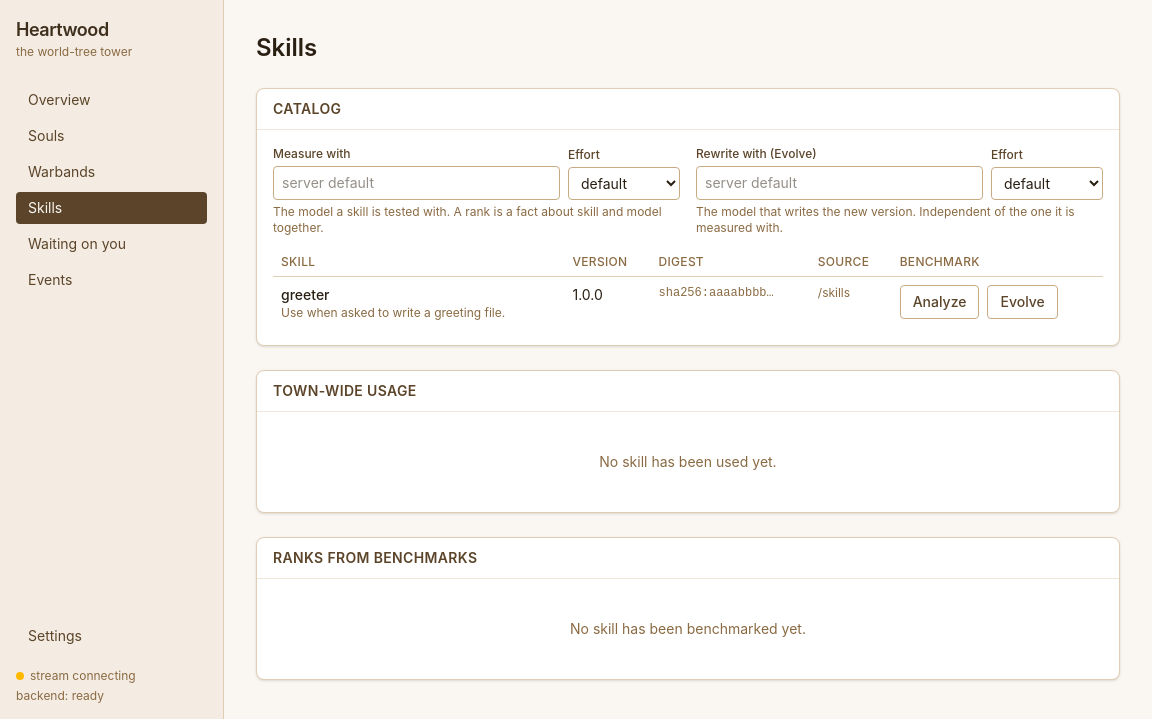
Test: pages › skills catalog actions › Evolve reports a refused proposal with its evidence, and a promotion with the new digest
Click the button "Evolve".
click(1023, 302)  # box [988,285,1058,319]
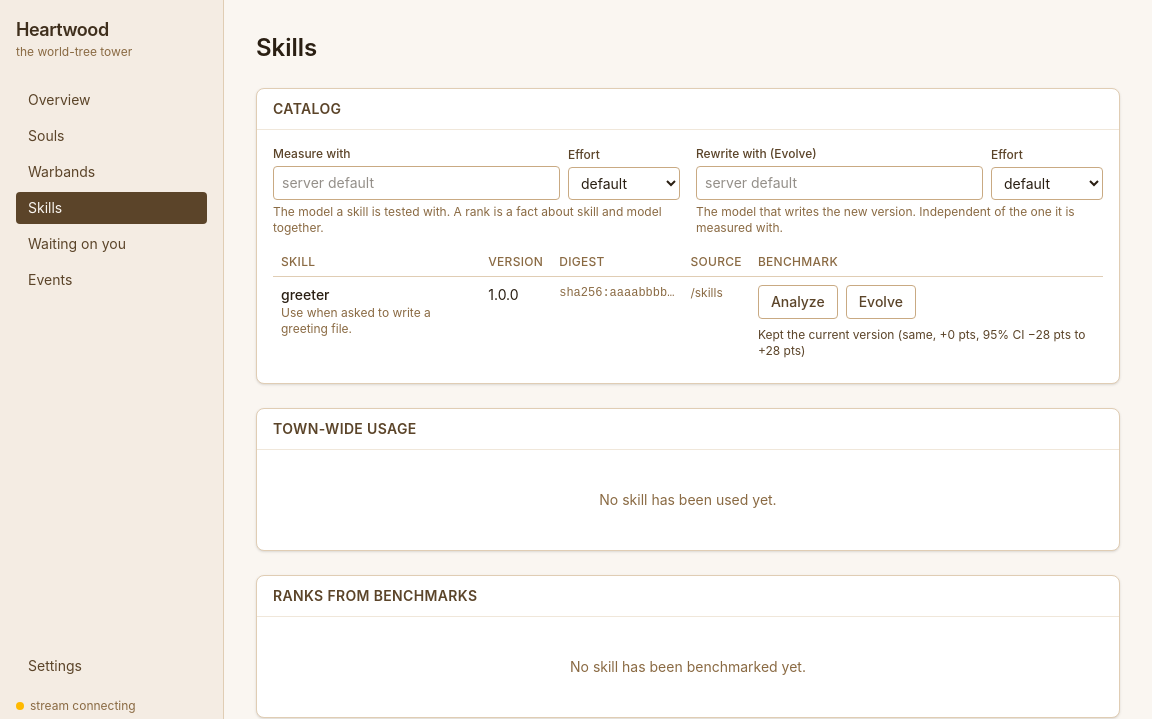
Now the text "Kept the current version (same, +0 pts, 95% CI −28 pts to +28 pts)" is shown, box [758,327,1095,359]
Click the button "Evolve".
click(881, 302)  # box [846,285,916,319]
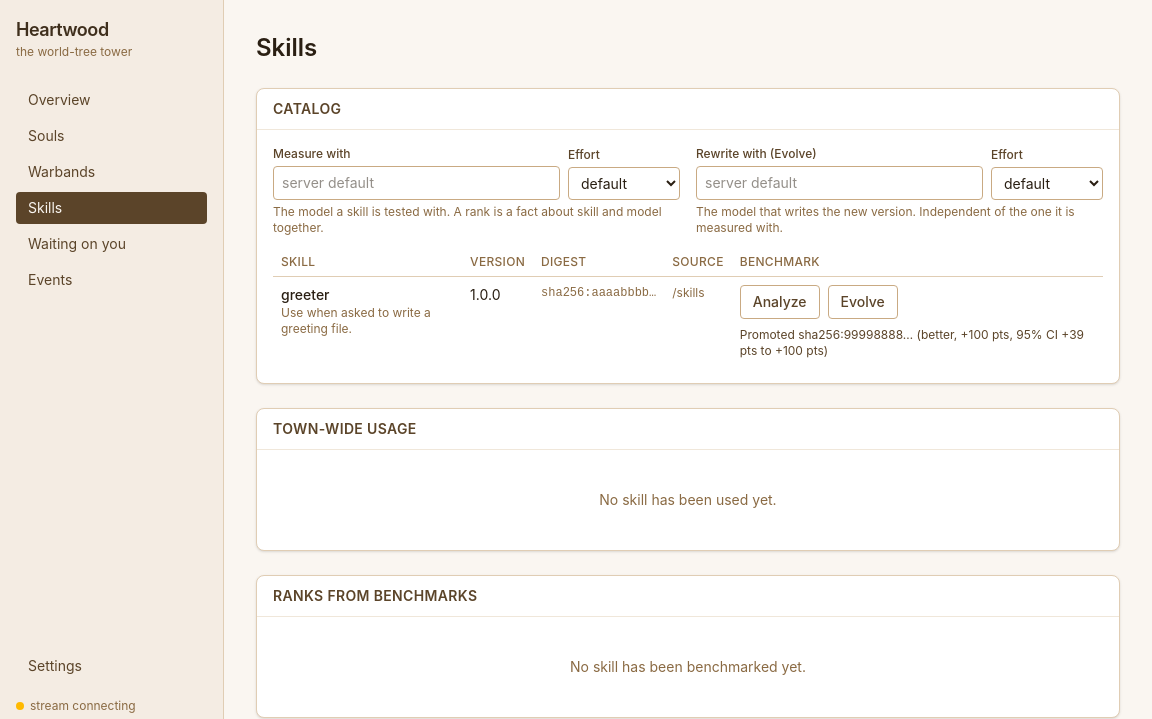
Now the text "Promoted sha256:99998888… (better, +100 pts" is shown, box [740,327,1084,358]
